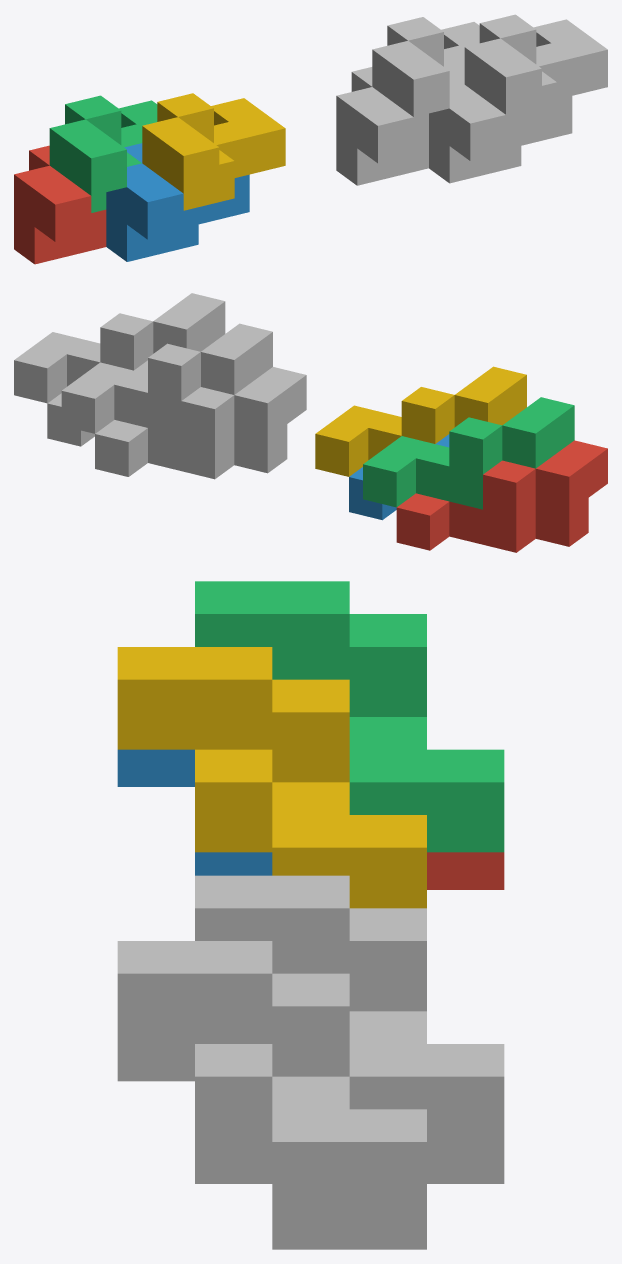
File: tiling.obj
3 renders of one model, top to bottom at view 1: azimuth 30°, elevation 25°; view 2: azimuth 150°, elevation 25°; view 3: azimuth 270°, elevation 25°, orthographic. The views are drawn at different scales.
Visible parts, largest first — view 1: copy_1_domain_4, copy_1_domain_8, copy_1_domain_2, copy_1_domain_6, copy_1_domain_3, copy_1_domain_7, copy_1_domain_5, copy_1_domain_1; view 2: copy_1_domain_5, copy_1_domain_1, copy_1_domain_7, copy_1_domain_3, copy_1_domain_4, copy_1_domain_8, copy_1_domain_6, copy_1_domain_2; view 3: copy_1_domain_8, copy_1_domain_4, copy_1_domain_7, copy_1_domain_3, copy_1_domain_6, copy_1_domain_2, copy_1_domain_1, copy_1_domain_5.
Boxes of the visible parts, x1=… form: copy_1_domain_4: x1=142, y1=93, x2=285, y2=210; copy_1_domain_8: x1=464, y1=14, x2=607, y2=131; copy_1_domain_2: x1=106, y1=143, x2=249, y2=261; copy_1_domain_6: x1=429, y1=64, x2=572, y2=183; copy_1_domain_3: x1=49, y1=95, x2=157, y2=212; copy_1_domain_7: x1=372, y1=17, x2=479, y2=134; copy_1_domain_5: x1=336, y1=67, x2=428, y2=185; copy_1_domain_1: x1=14, y1=145, x2=106, y2=264; copy_1_domain_5: x1=95, y1=367, x2=306, y2=479; copy_1_domain_1: x1=396, y1=440, x2=607, y2=552; copy_1_domain_7: x1=61, y1=323, x2=272, y2=435; copy_1_domain_3: x1=363, y1=397, x2=574, y2=509; copy_1_domain_4: x1=315, y1=366, x2=526, y2=476; copy_1_domain_8: x1=14, y1=293, x2=225, y2=403; copy_1_domain_6: x1=47, y1=360, x2=147, y2=446; copy_1_domain_2: x1=349, y1=434, x2=449, y2=520; copy_1_domain_8: x1=117, y1=941, x2=426, y2=1211; copy_1_domain_4: x1=117, y1=647, x2=426, y2=908; copy_1_domain_7: x1=195, y1=875, x2=504, y2=1146; copy_1_domain_3: x1=195, y1=581, x2=504, y2=852; copy_1_domain_6: x1=117, y1=1044, x2=426, y2=1249; copy_1_domain_2: x1=117, y1=749, x2=272, y2=875; copy_1_domain_1: x1=427, y1=852, x2=504, y2=889; copy_1_domain_5: x1=427, y1=1146, x2=504, y2=1183.
Size of the model in its own units: 16 by 3 by 5.
